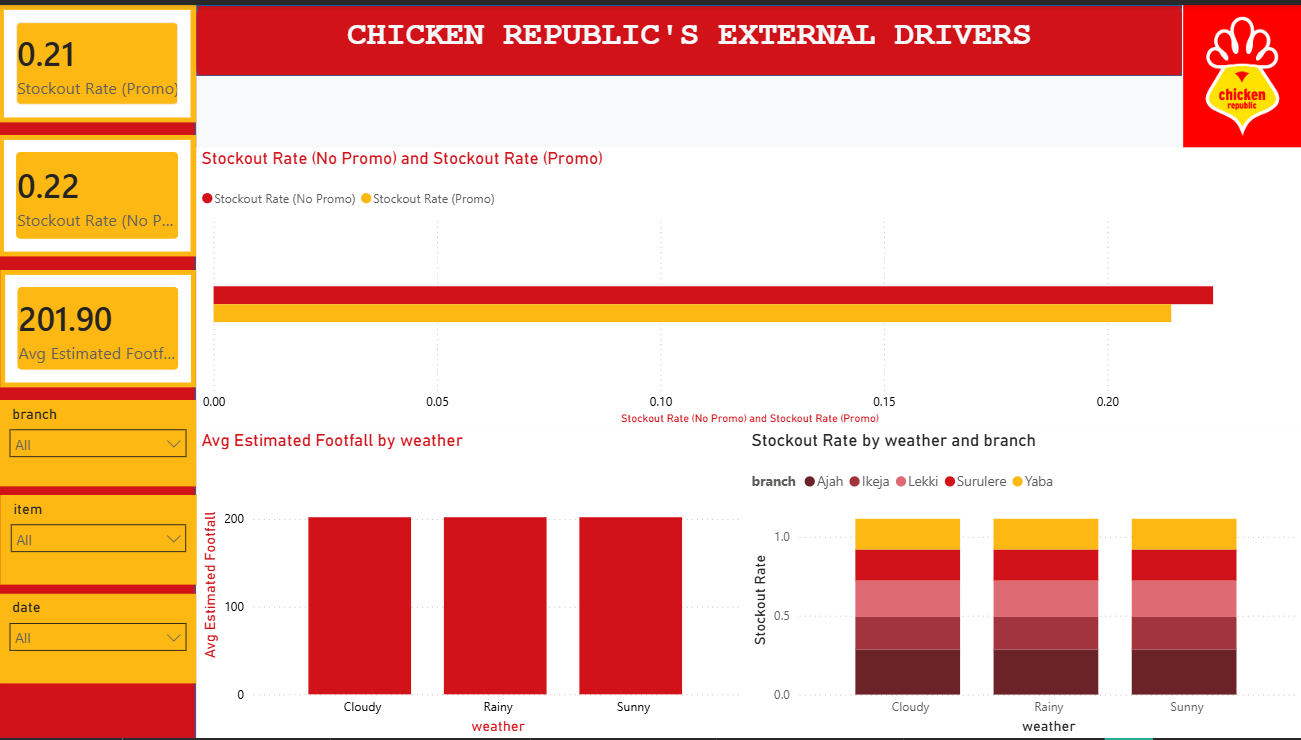

This screenshot's page, from the dashboard's own definition file:
{"tool":"powerbi","page":{"name":"EXTERNAL DRIVERS","canvas":[1280,720],"ordinal":3},"visuals":[{"type":"shape","box":[0,0,193.5,720.4],"z":0},{"type":"image","box":[1160.9,0,119.4,140],"z":1000},{"type":"cardVisual","fields":{"Data":["tasty_fried_chicken_raw_dataset.Stockout Rate (Promo)"]},"box":[0,0,193.5,115.3],"z":2000},{"type":"cardVisual","fields":{"Data":["tasty_fried_chicken_raw_dataset.Stockout Rate (No Promo)"]},"box":[0,127.6,193.5,119.4],"z":3000},{"type":"cardVisual","fields":{"Data":["DailySummary.Avg Estimated Footfall"]},"box":[1.4,260.7,192.1,115.3],"z":4000},{"type":"columnChart","fields":{"Y":["tasty_fried_chicken_raw_dataset.Stockout Rate"],"Category":["tasty_fried_chicken_raw_dataset.weather"],"Series":["DailySummary.branch"]},"box":[734.1,417.2,546.1,303.3],"z":5000},{"type":"shape","box":[193.5,0,967.4,70],"z":6000},{"type":"clusteredBarChart","fields":{"Y":["tasty_fried_chicken_raw_dataset.Stockout Rate (No Promo)","tasty_fried_chicken_raw_dataset.Stockout Rate (Promo)"]},"box":[193.5,140,1086.8,277.2],"z":7000},{"type":"clusteredColumnChart","fields":{"Category":["DailySummary.weather"],"Y":["DailySummary.Avg Estimated Footfall"]},"box":[193.5,417.2,540.7,303.3],"z":9000},{"type":"textbox","box":[193.5,6.9,967.4,57.6],"z":10000},{"type":"slicer","fields":{"Values":["DailySummary.branch"]},"box":[0,387.7,193.9,84.7],"z":10001},{"type":"slicer","fields":{"Values":["DailySummary.item"]},"box":[1.2,481,192.6,88.3],"z":10002},{"type":"slicer","fields":{"Values":["DailySummary.date"]},"box":[0,577.9,193.9,88.3],"z":10003}]}

Visuals, with their boxes in screenshot pixels (x1, y1, x2, y2), scaled from the page's 1280x720 canvas onto the 1301x740 screenshot:
shape: box=[0, 0, 197, 739]
image: box=[1180, 0, 1300, 144]
cardVisual - tasty_fried_chicken_raw_dataset.Stockout Rate (Promo): box=[0, 0, 197, 119]
cardVisual - tasty_fried_chicken_raw_dataset.Stockout Rate (No Promo): box=[0, 131, 197, 254]
cardVisual - DailySummary.Avg Estimated Footfall: box=[1, 268, 197, 386]
columnChart - tasty_fried_chicken_raw_dataset.Stockout Rate x tasty_fried_chicken_raw_dataset.weather: box=[746, 429, 1300, 739]
shape: box=[197, 0, 1180, 72]
clusteredBarChart - tasty_fried_chicken_raw_dataset.Stockout Rate (No Promo) x tasty_fried_chicken_raw_dataset.Stockout Rate (Promo): box=[197, 144, 1300, 429]
clusteredColumnChart - DailySummary.weather x DailySummary.Avg Estimated Footfall: box=[197, 429, 746, 739]
textbox: box=[197, 7, 1180, 66]
slicer - DailySummary.branch: box=[0, 398, 197, 486]
slicer - DailySummary.item: box=[1, 494, 197, 585]
slicer - DailySummary.date: box=[0, 594, 197, 685]
